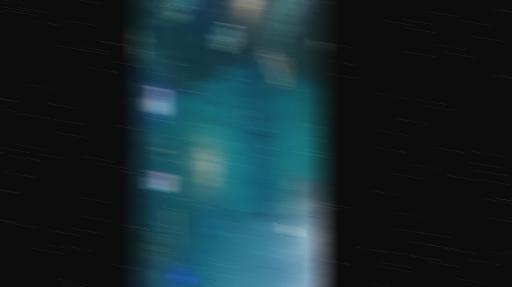Fish: (263, 49, 286, 90), (215, 23, 236, 50), (284, 193, 301, 215), (287, 170, 302, 190), (299, 183, 311, 205), (229, 217, 239, 242), (311, 182, 324, 199), (233, 212, 246, 226), (280, 224, 295, 234), (221, 119, 234, 129), (244, 107, 252, 122), (184, 0, 195, 9), (197, 112, 210, 119), (224, 107, 233, 117), (228, 135, 238, 144), (316, 40, 324, 51), (202, 100, 213, 108), (252, 133, 271, 137), (214, 119, 222, 127), (257, 213, 276, 216), (213, 227, 221, 234), (202, 123, 210, 130), (208, 119, 217, 125), (212, 100, 221, 106), (254, 219, 263, 224), (224, 101, 227, 106), (306, 0, 307, 8)
